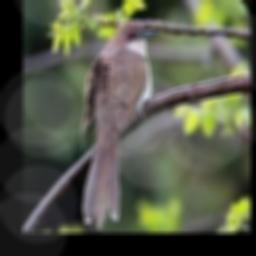Cuckoo: (79, 20, 158, 229)
